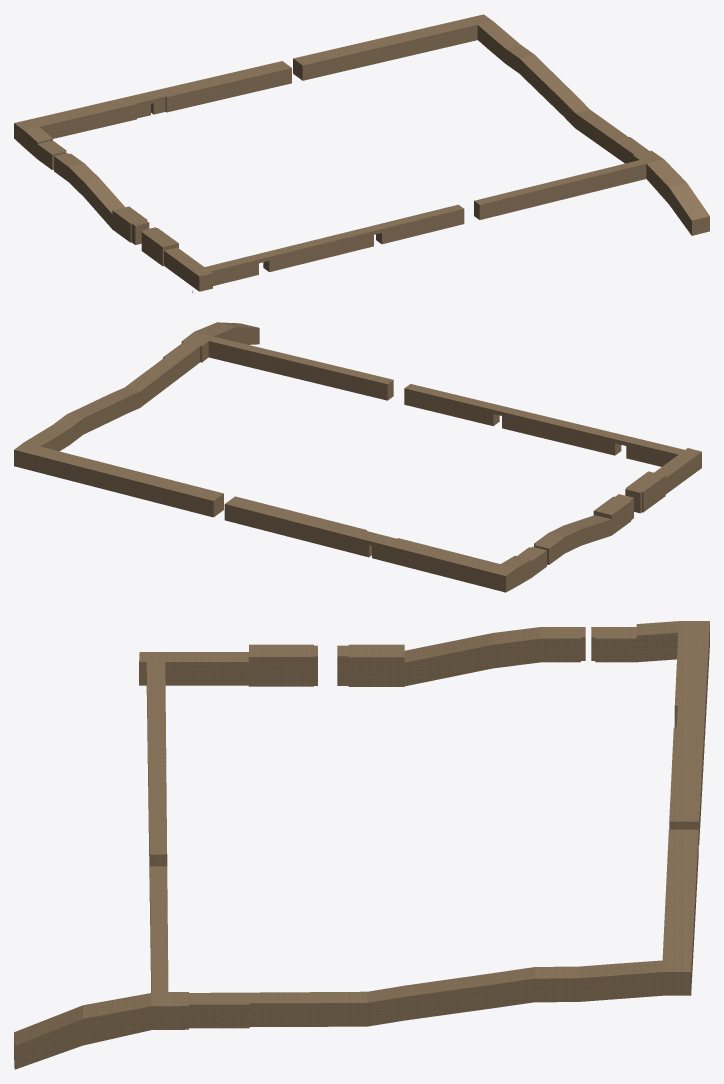
The model's file is Anubieion.glb.
3 views of the same model, one above another, from view 1: azimuth 30°, elevation 25°; view 2: azimuth 150°, elevation 25°; view 3: azimuth 270°, elevation 25° (orthographic). The views are drawn at different scales.
Visible parts, largest first — view 1: Mesh1 Model, Mesh4 Model, Mesh2 Model, Mesh3 Model; view 2: Mesh1 Model, Mesh4 Model, Mesh2 Model, Mesh3 Model; view 3: Mesh1 Model, Mesh2 Model, Mesh4 Model, Mesh3 Model.
Part boxes in pixels (x1,y1,x2,y2): Mesh1 Model: (293,14,709,235); Mesh4 Model: (14,61,291,169); Mesh2 Model: (141,204,464,291); Mesh3 Model: (54,153,149,244); Mesh1 Model: (14,322,393,517); Mesh4 Model: (224,496,546,592); Mesh2 Model: (404,384,701,513); Mesh3 Model: (534,494,633,564); Mesh1 Model: (14,829,698,1069); Mesh2 Model: (139,644,317,877); Mesh4 Model: (591,621,709,844); Mesh3 Model: (337,627,585,686).
Bounding box in the file's own units: 262 × 31 × 213.
Materials: 2 (2 with a texture image).
